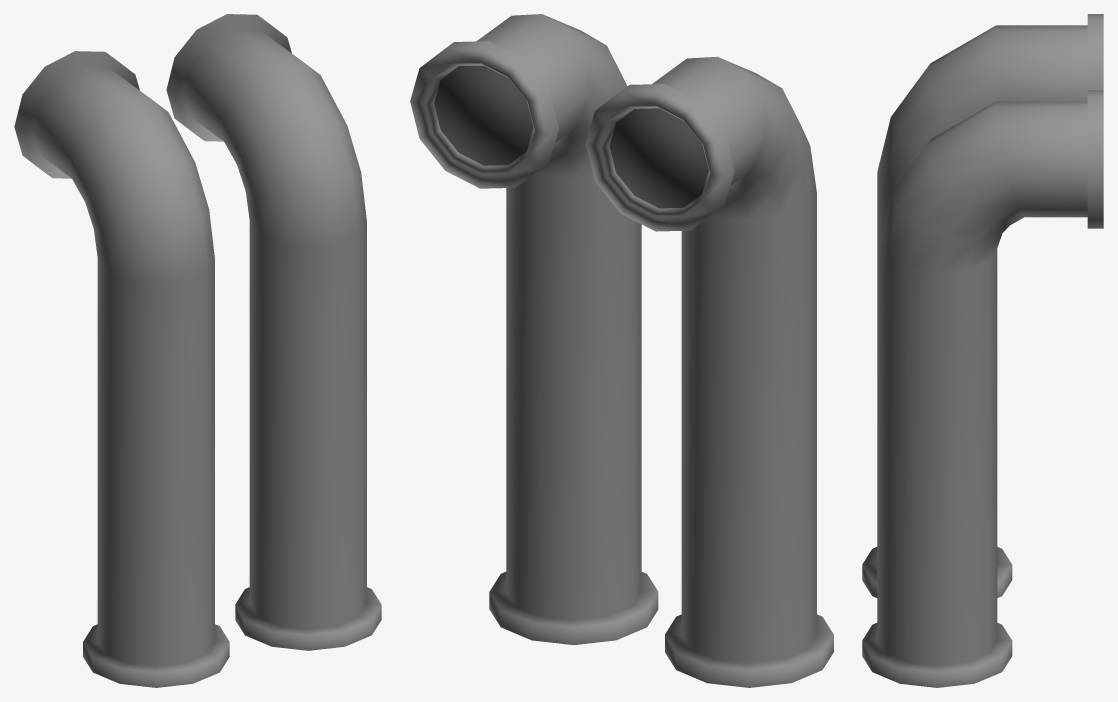
The model's file is pipe.glb.
3 views of the same model, side by side, from view 1: azimuth 30°, elevation 25°; view 2: azimuth 150°, elevation 25°; view 3: azimuth 270°, elevation 25° (orthographic). The views are drawn at different scales.
Visible parts, largest first — view 1: Pipes_Low; view 2: Pipes_Low; view 3: Pipes_Low.
Boxes of the visible parts, <box> form: Pipes_Low: <box>14,14,381,687</box>; Pipes_Low: <box>410,14,833,687</box>; Pipes_Low: <box>862,14,1103,687</box>.
Bounding box in the file's own units: 1.07 × 2 × 0.7823.
Materials: 1 (1 with a texture image).
